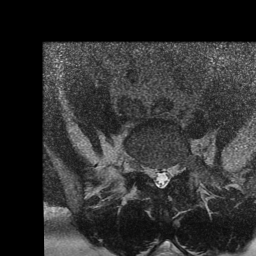CCS_normal: (158, 161, 165, 195)
LFS_normal: (173, 154, 181, 180)
LLS_normal: (164, 160, 173, 189)
RFS_normal: (143, 157, 151, 180)
RLS_normal: (150, 158, 158, 190)
